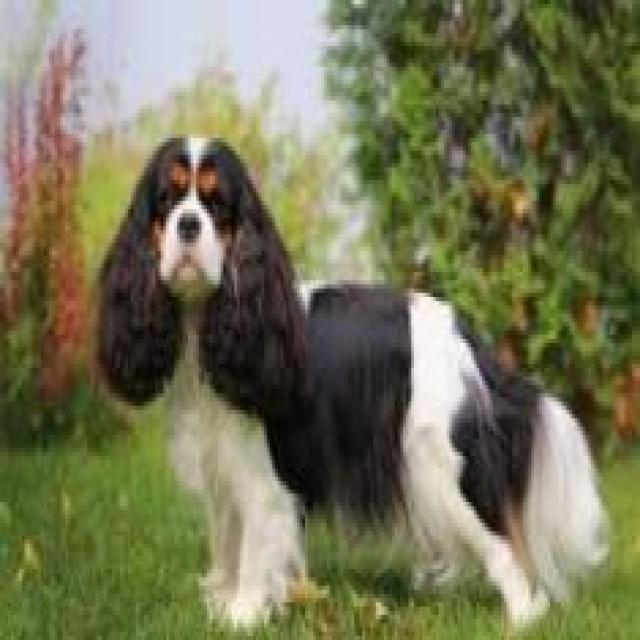Perro: (87, 121, 616, 636)
